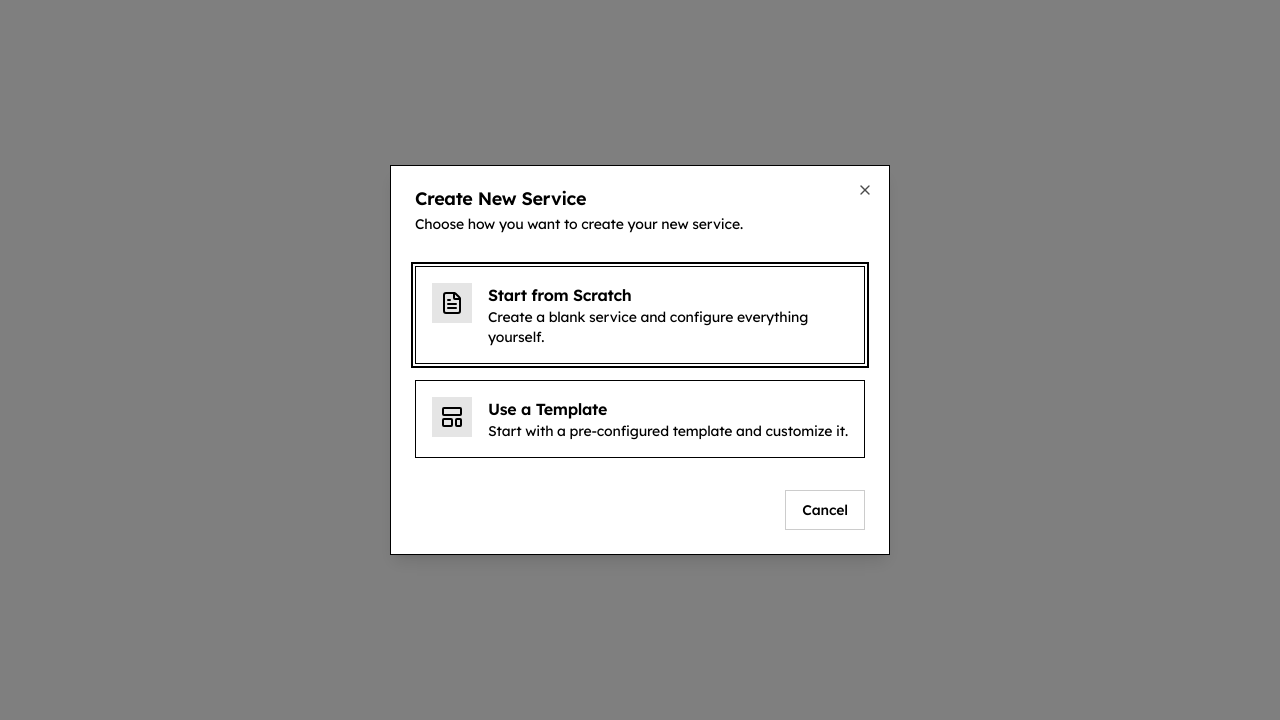
Scenario: CreateServiceDialog › Mode Selection › has back button in blank service mode
Click the heading "Start from Scratch" at [560, 295], box [488,285,631,305]
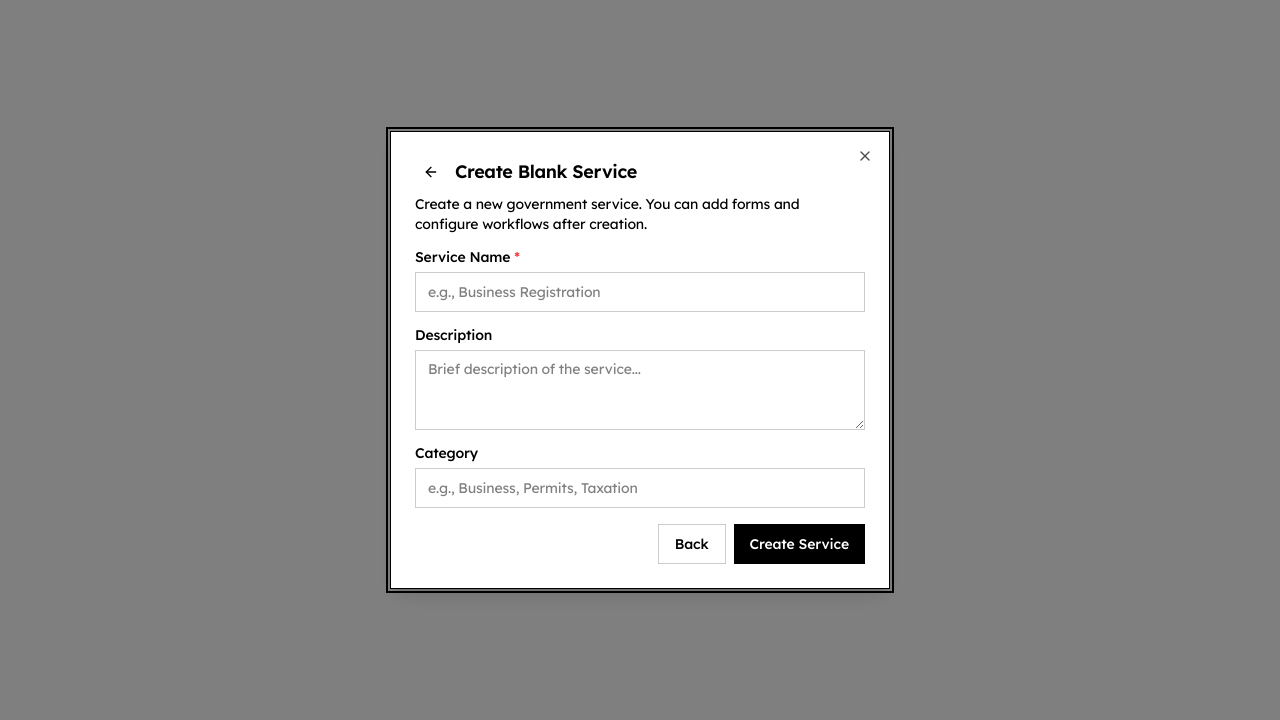
// Click back button
Click the button "Back" at [692, 544], box [658,524,726,564]
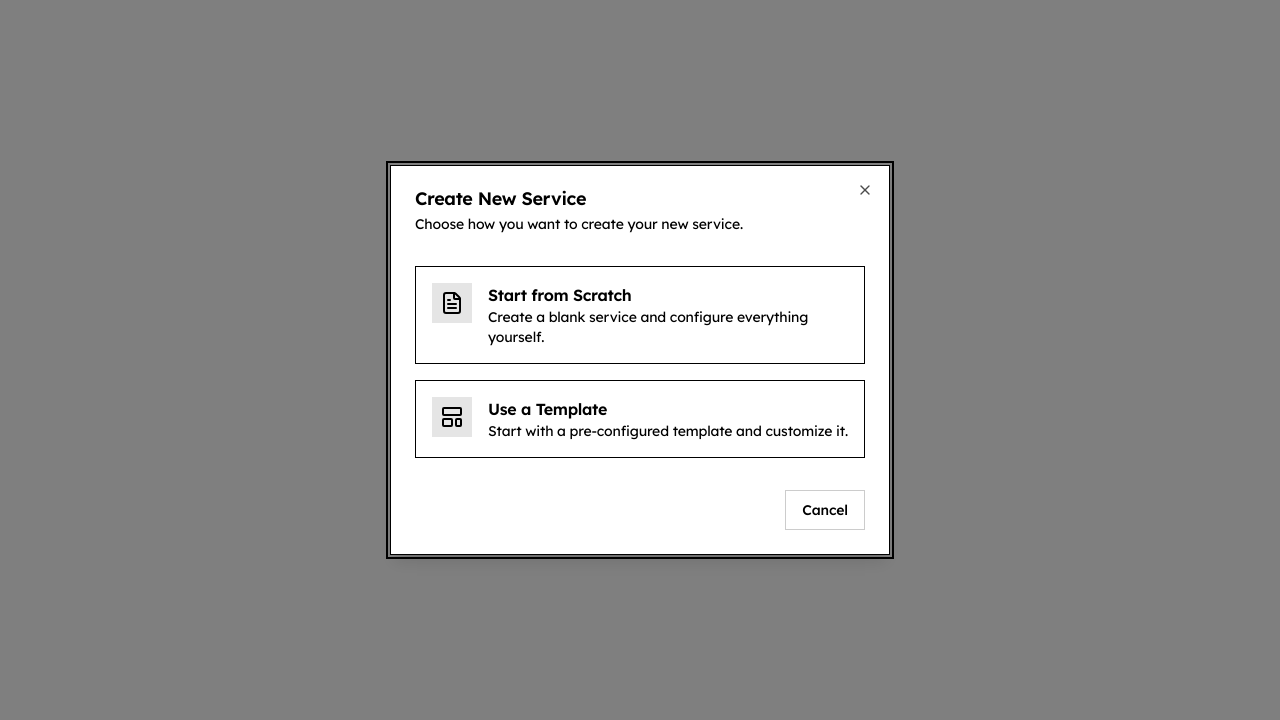
Result: the heading "Start from Scratch" is shown at [488,285,631,305]
Result: the heading "Use a Template" is shown at [488,399,607,419]
